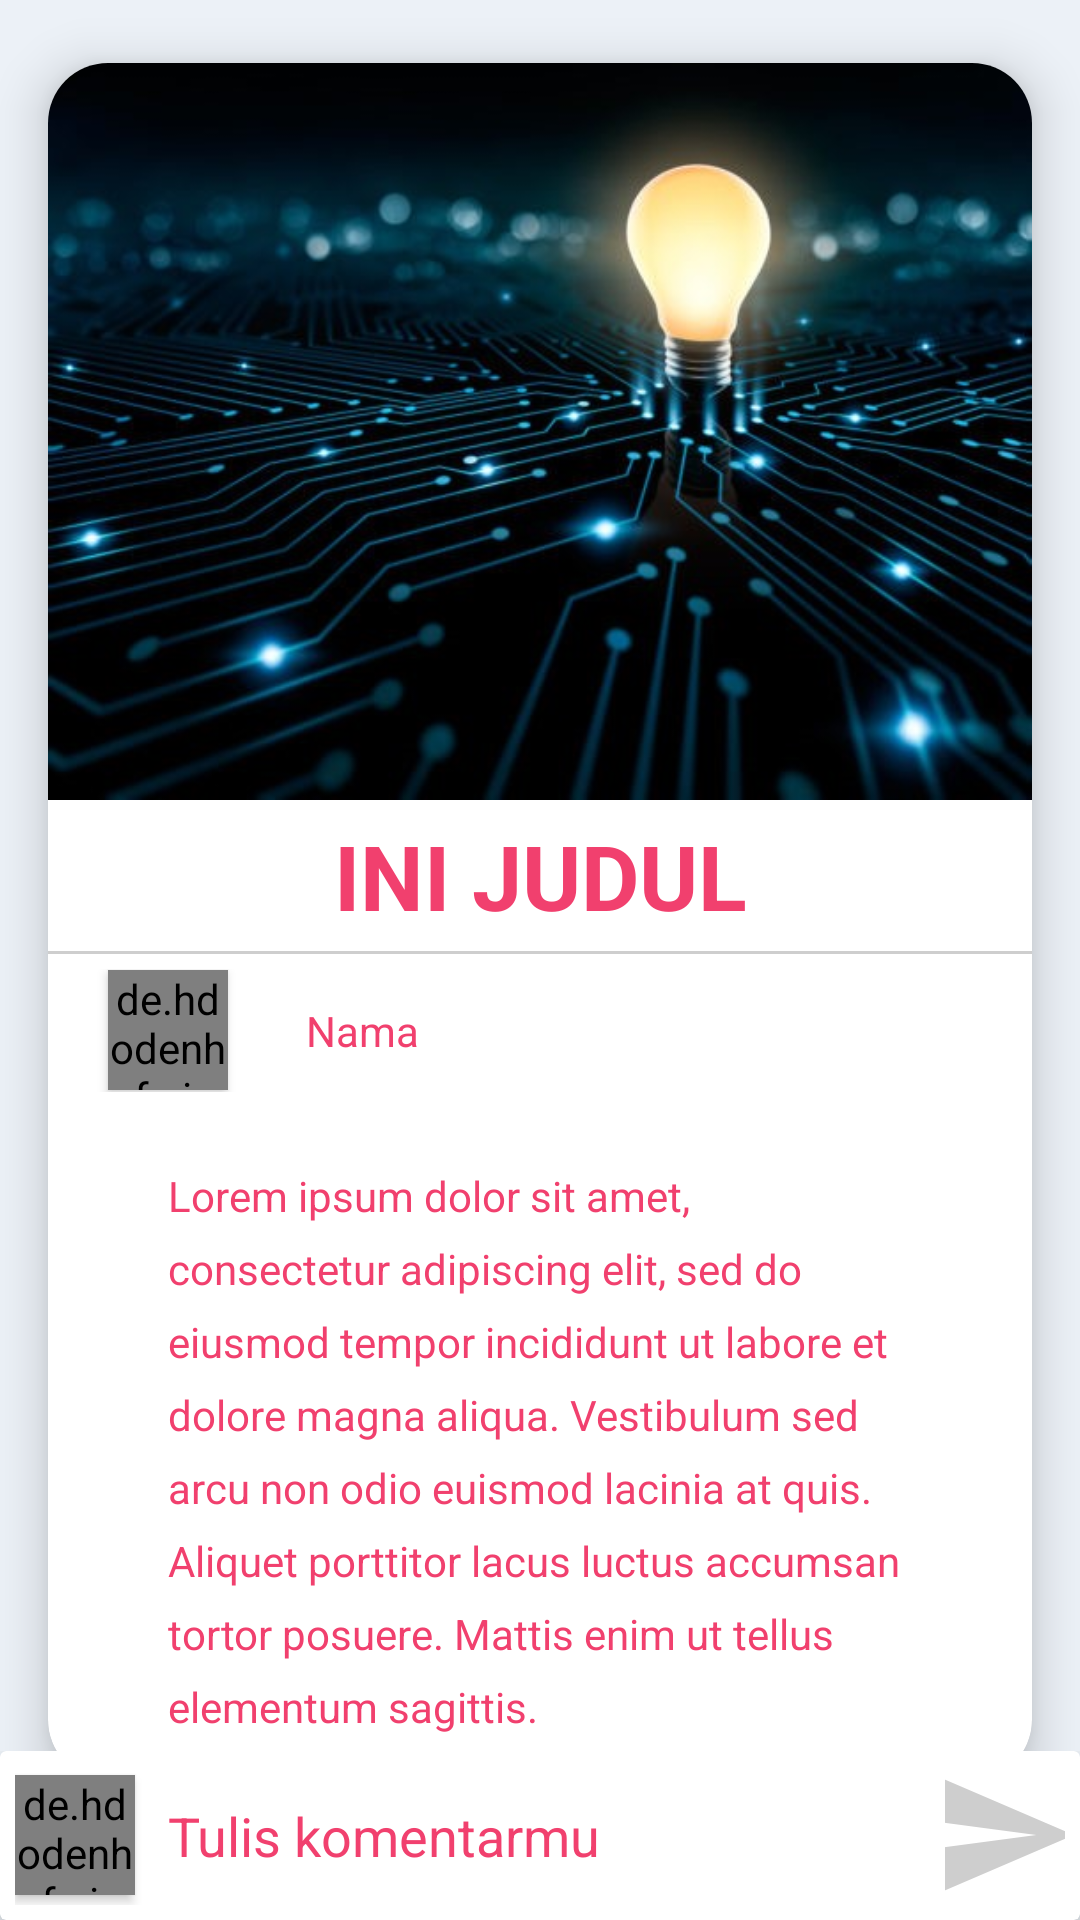

Locate icon controls on the screen. Image size 1080×1920, boxes as (x1,y1,x2,y2).
send: (945,1780,1065,1890)
